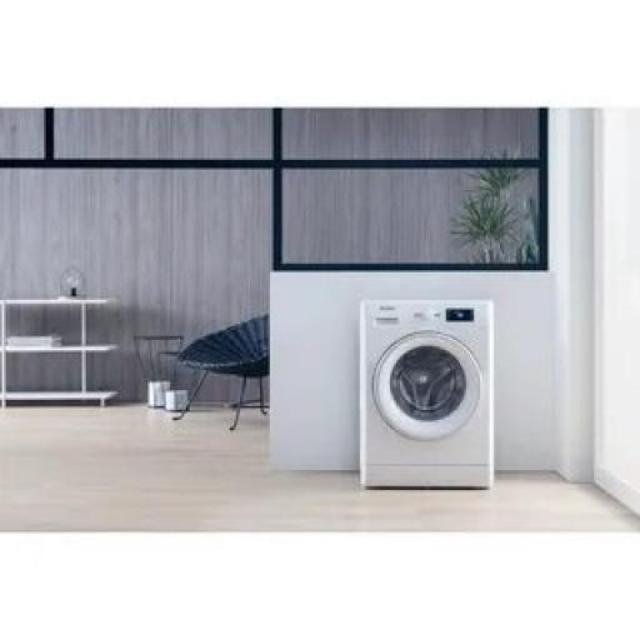Washing-Machine: (360, 297, 490, 488)
